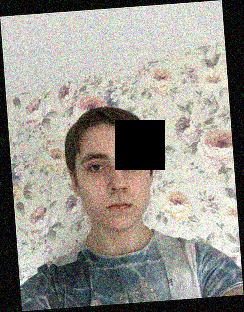without_mask: (76, 148, 152, 233)
